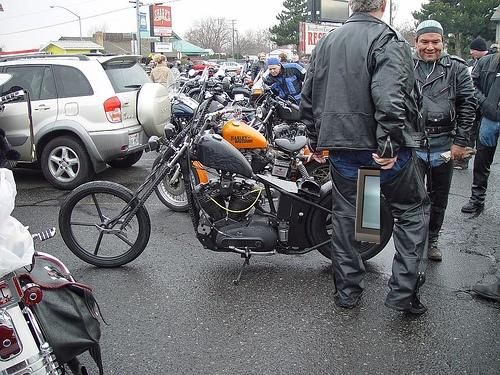tampered: (356, 167, 380, 244)
